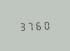seven: (26, 20, 33, 31)
six: (34, 20, 41, 30)
three: (18, 20, 25, 31)
zero: (42, 19, 49, 30)
